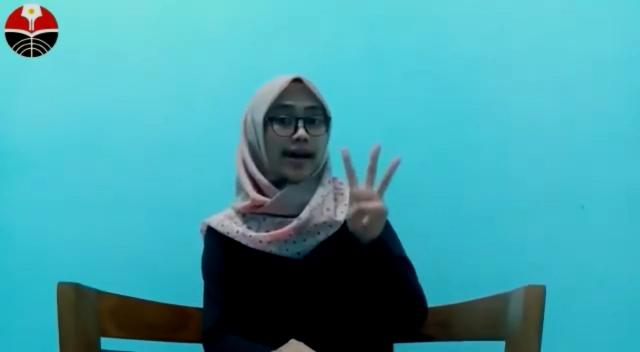W: (340, 142, 400, 238)
